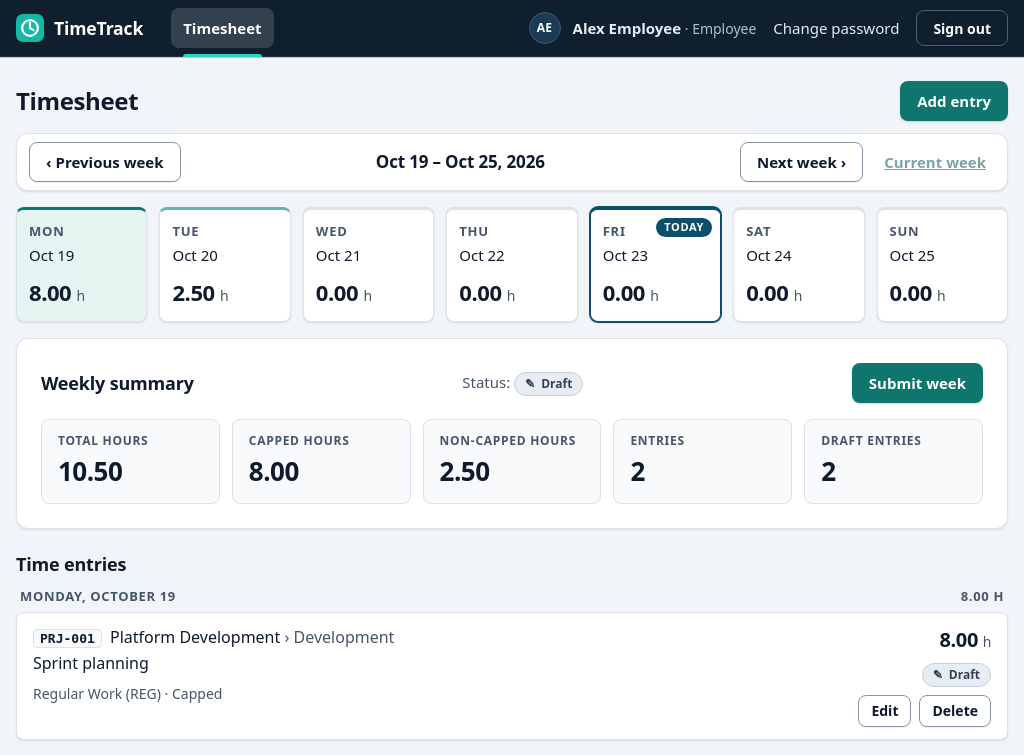
it: Delete time entry › does nothing when the confirmation is cancelled
Click the button with aria-label "Delete entry: PRJ-001": [955, 711] box [920,695,991,727]
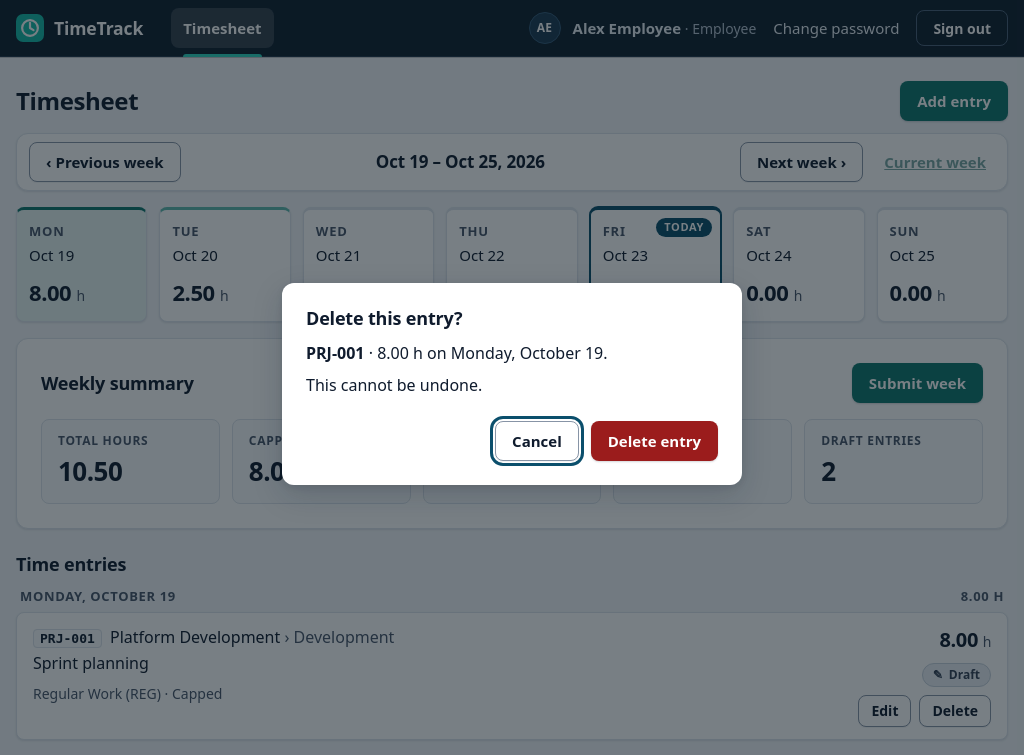
Click the button "Cancel": [537, 441] box [495,421,579,461]
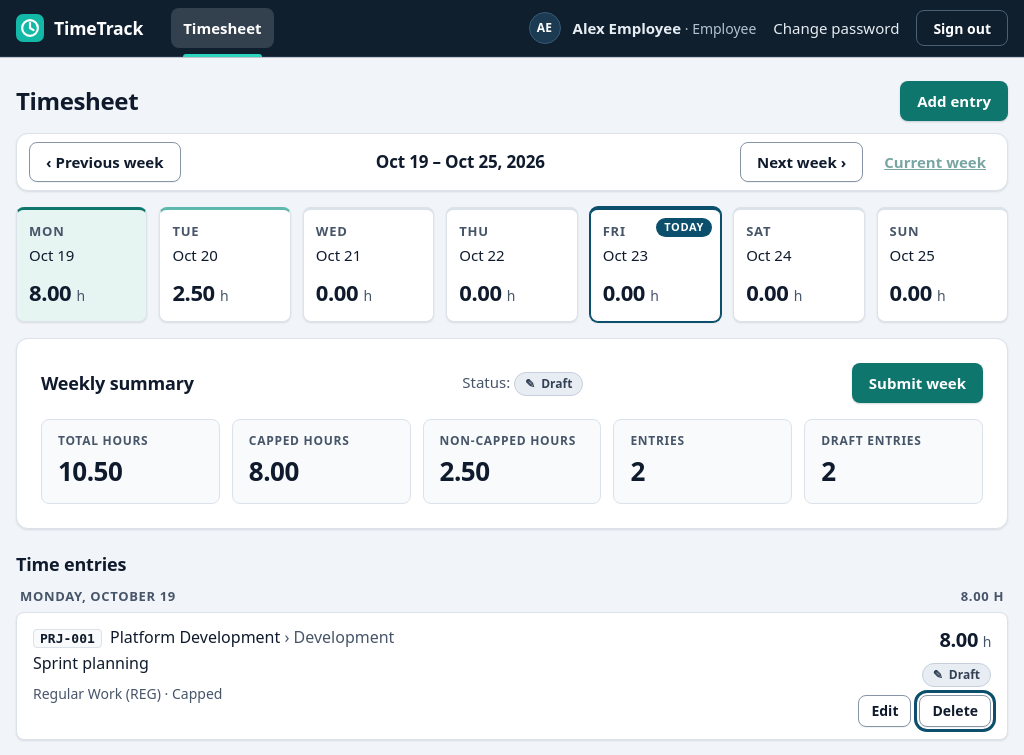
Result: the dialog is gone
